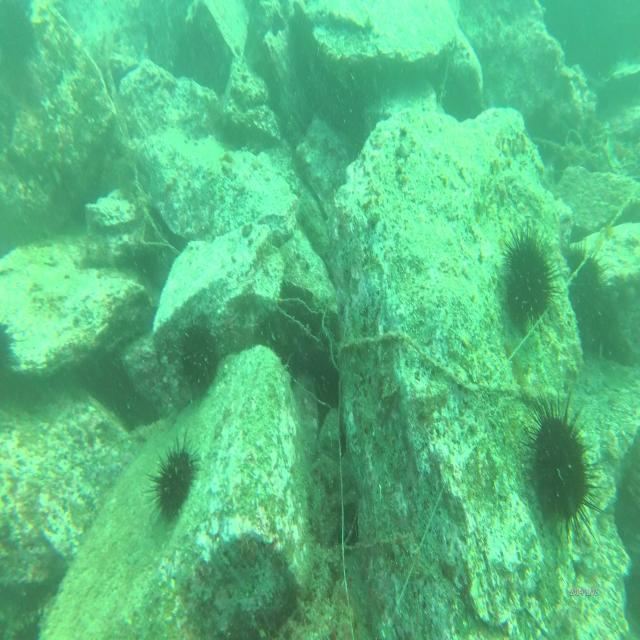echinus: (520, 392, 600, 547), (494, 208, 560, 332), (142, 441, 205, 520), (170, 316, 222, 405)
